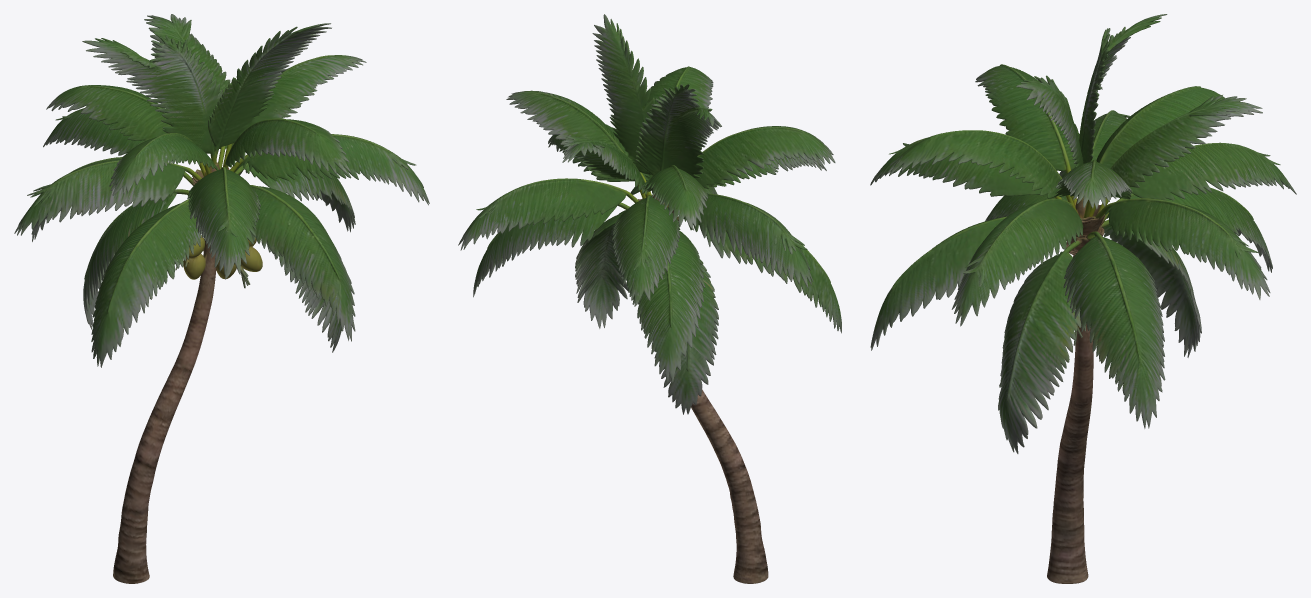
File: palm_coconut.glb
3 views of the same model, side by side, from view 1: azimuth 30°, elevation 25°; view 2: azimuth 150°, elevation 25°; view 3: azimuth 270°, elevation 25° (orthographic). The views are drawn at different scales.
Visible parts, largest first — view 1: tripo_node_79a2097d-f201-4966-b040-fcde44fc0cac; view 2: tripo_node_79a2097d-f201-4966-b040-fcde44fc0cac; view 3: tripo_node_79a2097d-f201-4966-b040-fcde44fc0cac.
Boxes of the visible parts, x1,y1,x2,y2 form: tripo_node_79a2097d-f201-4966-b040-fcde44fc0cac: [14, 14, 429, 583]; tripo_node_79a2097d-f201-4966-b040-fcde44fc0cac: [458, 14, 841, 583]; tripo_node_79a2097d-f201-4966-b040-fcde44fc0cac: [870, 14, 1296, 583].
Bounding box in the file's own units: 0.6664 × 0.9771 × 0.6447.
Materials: 1 (1 with a texture image).
